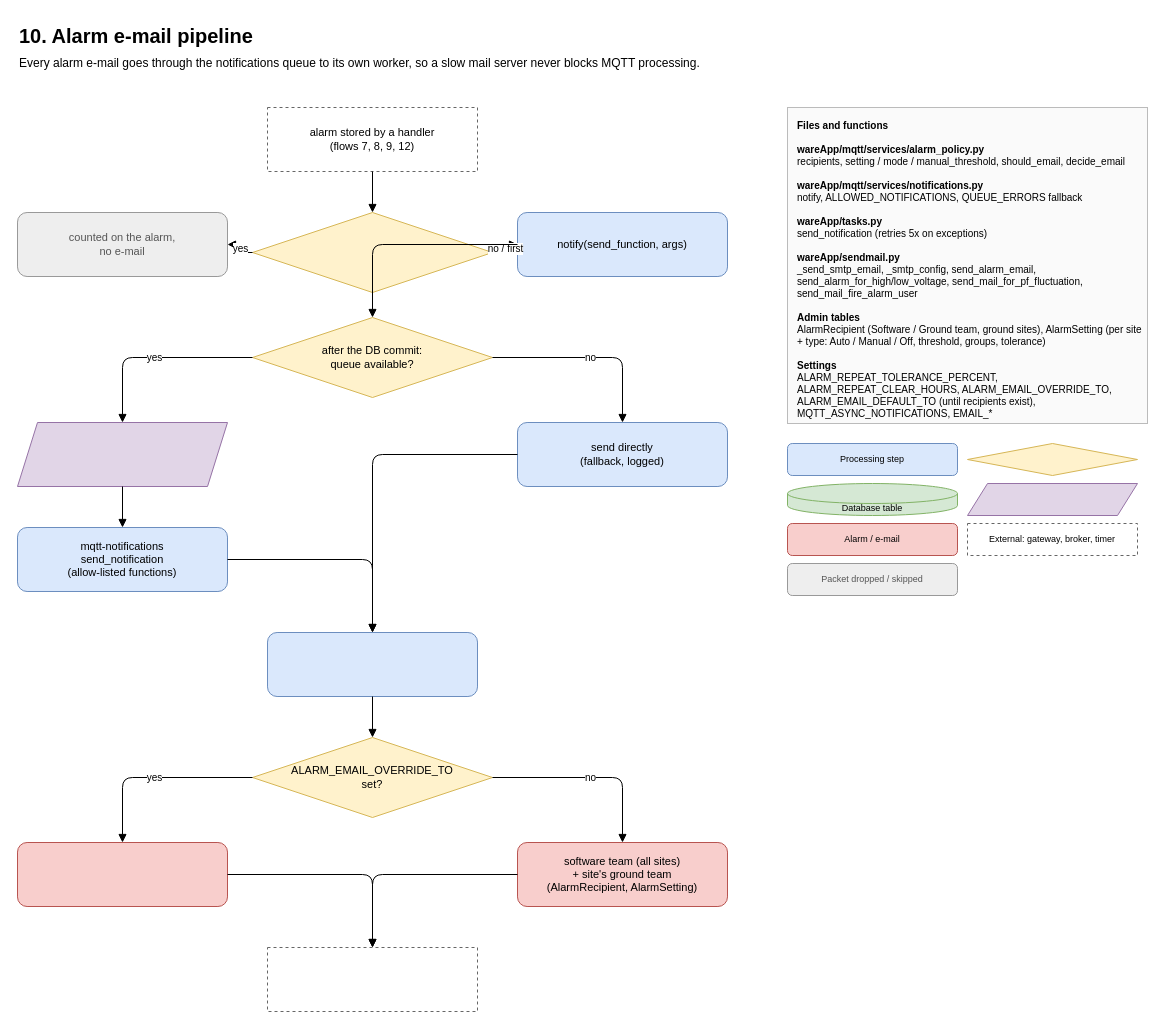
Image size: 1165x1029. Some labels were removed from this diagram. Each missing label, with the centre of its shape:
Decision: point 1052,459
notifications queue (persistent): point 122,454
only to override address (+ 'TEST REDIRECT' banner): point 122,874
RabbitMQ queue / MQTT topic: point 1052,499
repeat within tolerance of the last e-mailed value? (alarm_policy.should_email): point 372,252
sendmail.[function] -> _send_smtp_email: point 372,664
SMTP (EMAIL_* in .env) 'Email sent' / 'Email failed': point 372,979
